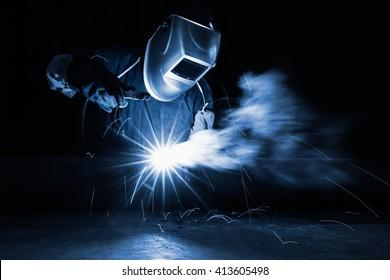gloves: (67, 55, 136, 114)
